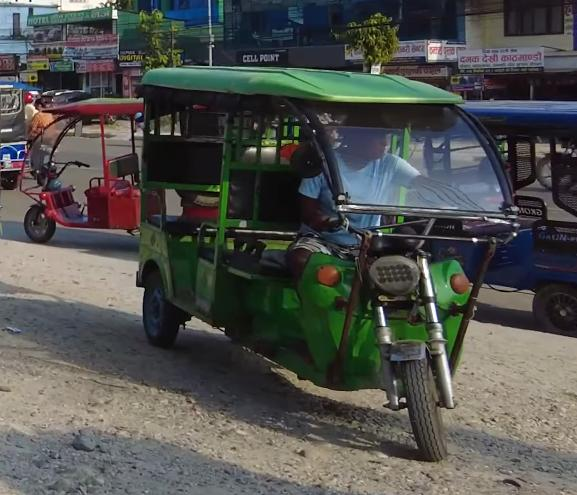e-rickshaw: (134, 47, 517, 495), (14, 71, 146, 244)
